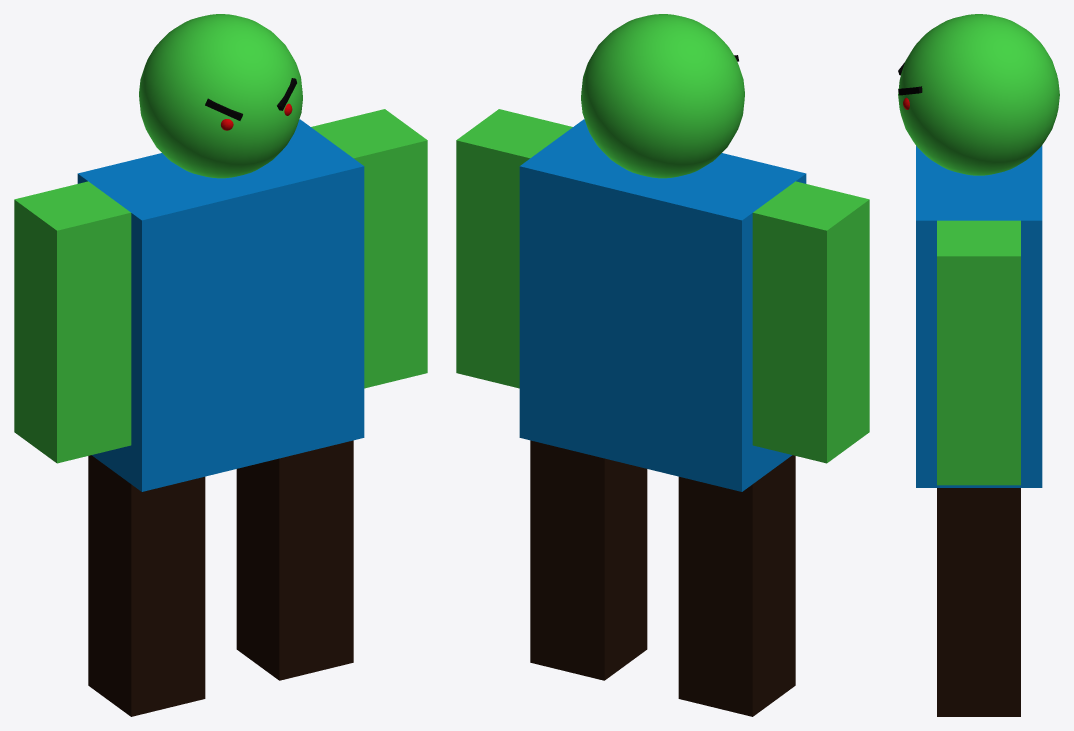
File: zombie.obj
3 views of the same model, side by side, from view 1: azimuth 30°, elevation 25°; view 2: azimuth 150°, elevation 25°; view 3: azimuth 270°, elevation 25° (orthographic).
Visible parts, largest first — view 1: body, leftArm, leftLeg, rightLeg, head, rightArm; view 2: body, leftArm, leftLeg, rightLeg, head, rightArm; view 3: rightArm, head, rightLeg, body.
Part boxes in pixels (left/top/right/bottom): body: left=77, top=119, right=364, bottom=491; leftArm: left=14, top=181, right=131, bottom=463; leftLeg: left=88, top=455, right=205, bottom=716; rightLeg: left=236, top=440, right=353, bottom=680; head: left=139, top=14, right=302, bottom=178; rightArm: left=311, top=109, right=427, bottom=388; body: left=519, top=119, right=806, bottom=491; leftArm: left=752, top=181, right=869, bottom=463; leftLeg: left=678, top=455, right=795, bottom=716; rightLeg: left=530, top=440, right=647, bottom=680; head: left=581, top=14, right=744, bottom=178; rightArm: left=456, top=109, right=572, bottom=388; rightArm: left=937, top=220, right=1020, bottom=485; head: left=898, top=14, right=1059, bottom=175; rightLeg: left=937, top=488, right=1020, bottom=716; body: left=916, top=145, right=1042, bottom=487.
Bounding box in the file's own units: 10 × 16.82 × 3.85.
